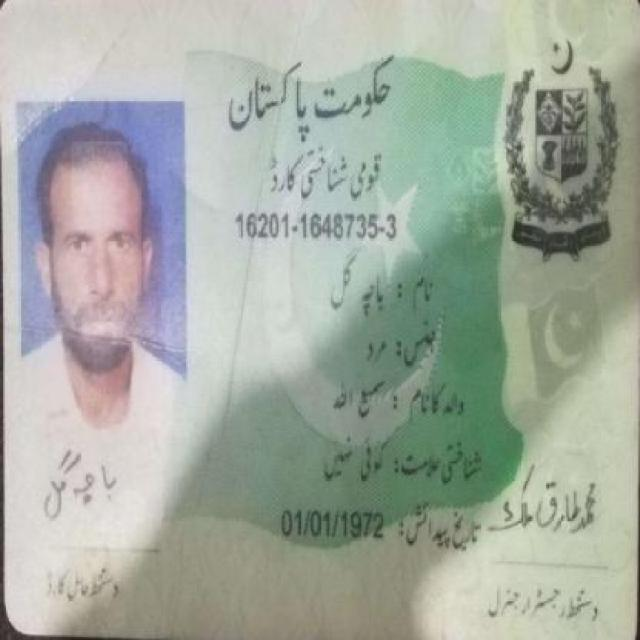Front: (5, 9, 629, 626)
